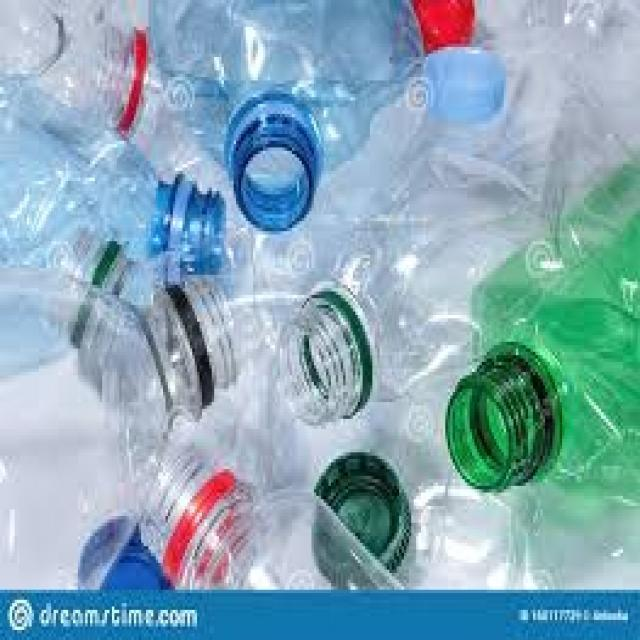Plastic: (0, 248, 242, 590), (436, 128, 640, 516), (154, 0, 430, 229), (0, 71, 228, 265), (135, 441, 405, 586), (309, 443, 408, 586)
